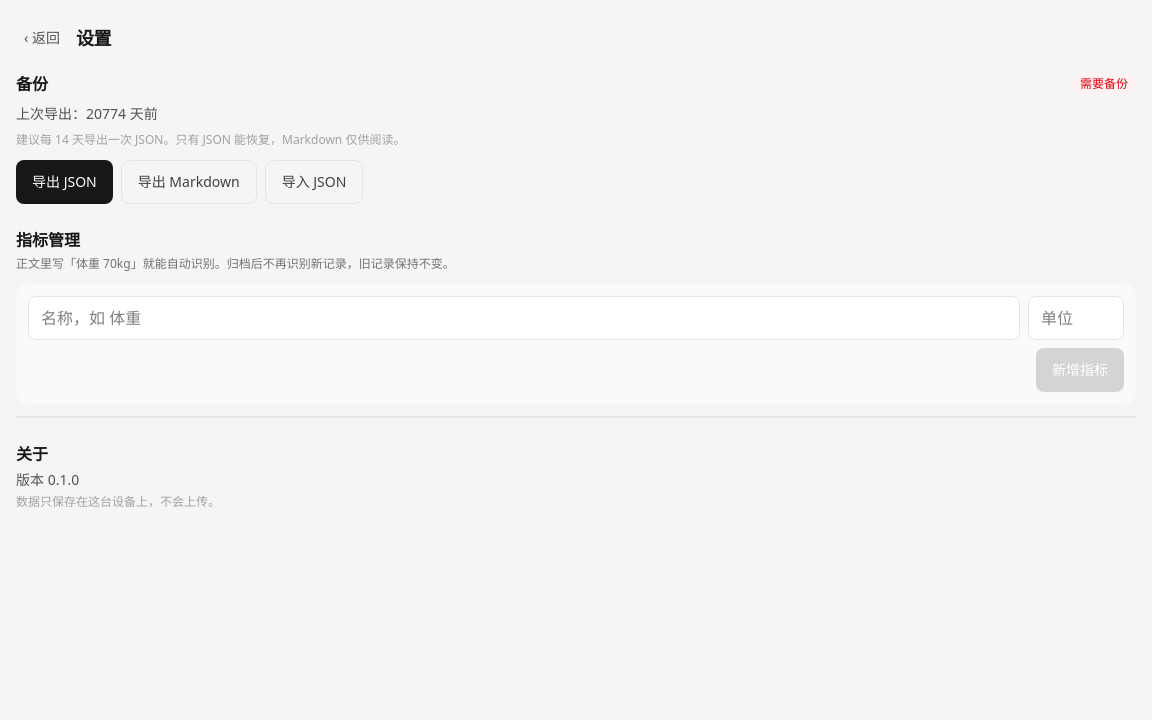
SettingsPage 指标管理 › 重复名称显示指标已存在
Type "体重" into the field named "指标名称" at (524, 318), box [28,296,1020,340]
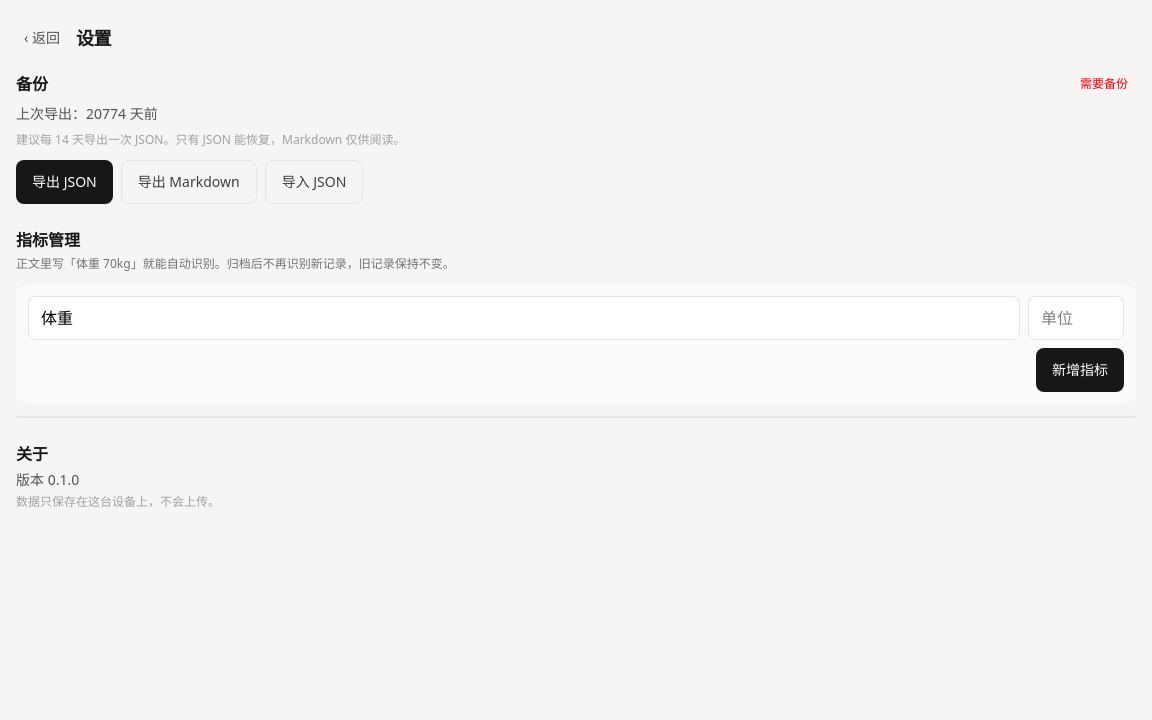
Click the button "新增指标" at (1080, 370), box [1036,348,1124,392]
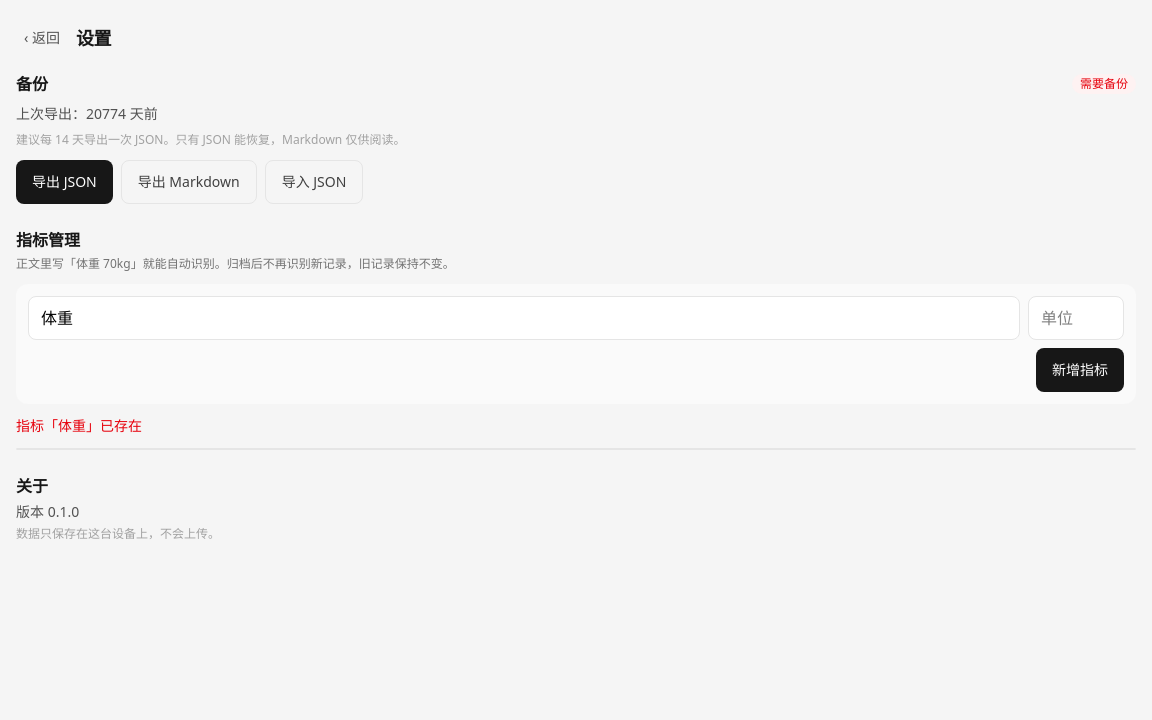
Expected: the message reads "指标「体重」已存在", [16,416,142,435]
